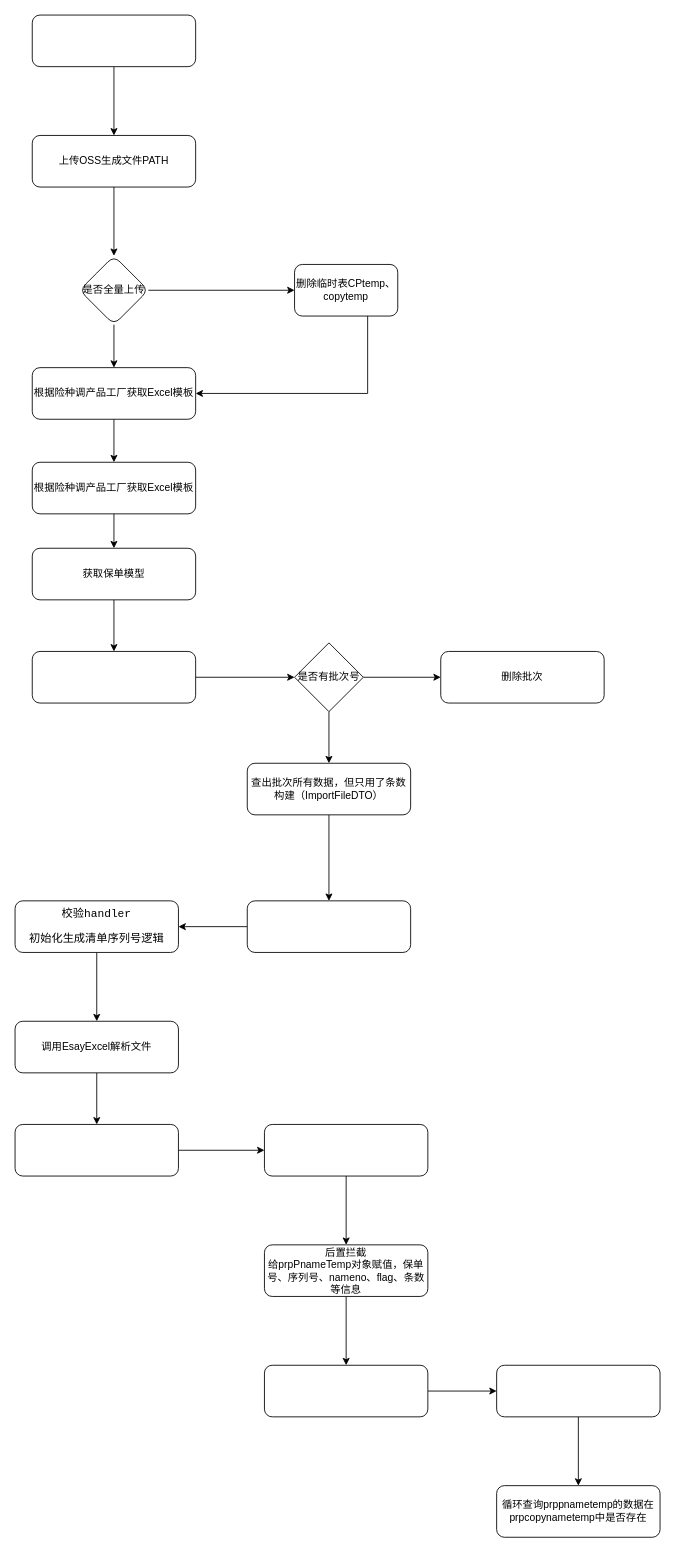
Image size: 675x1552. Some labels were removed from this diagram. Here are the shapes that lost their labels. From the top down, the centre of each, then its label:
At [113,40]: "studentExcelImport".
At [113,677]: "日志handler 统一处理日志表（Insurancebatch）".
At [328,926]: "写入Insurancebatch".
At [96,1150]: "BatchInsureExcelListener 产品工厂驱动模型保存".
At [346,1150]: "前置拦截 校验、写入Insurancebatchetail".
At [346,1390]: "ListenerInstance 开始导入逻辑".
At [578,1390]: "利用json序列化， 将cName转为prpcopuNametemp".
